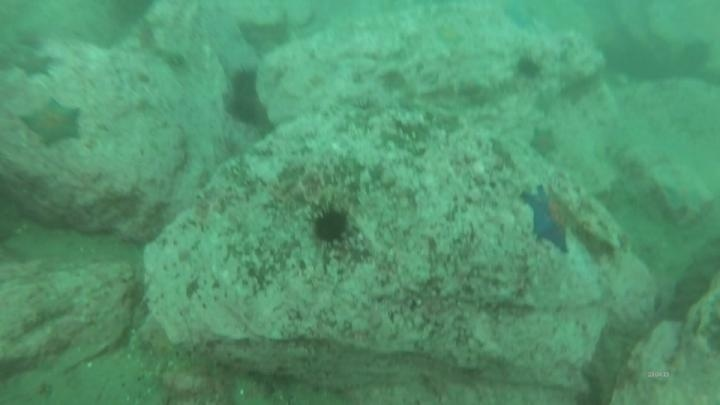echinus: (224, 66, 264, 126), (310, 206, 351, 245), (676, 37, 714, 76), (105, 1, 158, 28), (512, 54, 544, 82)
starfish: (520, 184, 578, 255), (19, 97, 84, 149), (15, 51, 57, 81), (500, 2, 540, 32), (527, 125, 561, 159), (432, 20, 468, 49)
